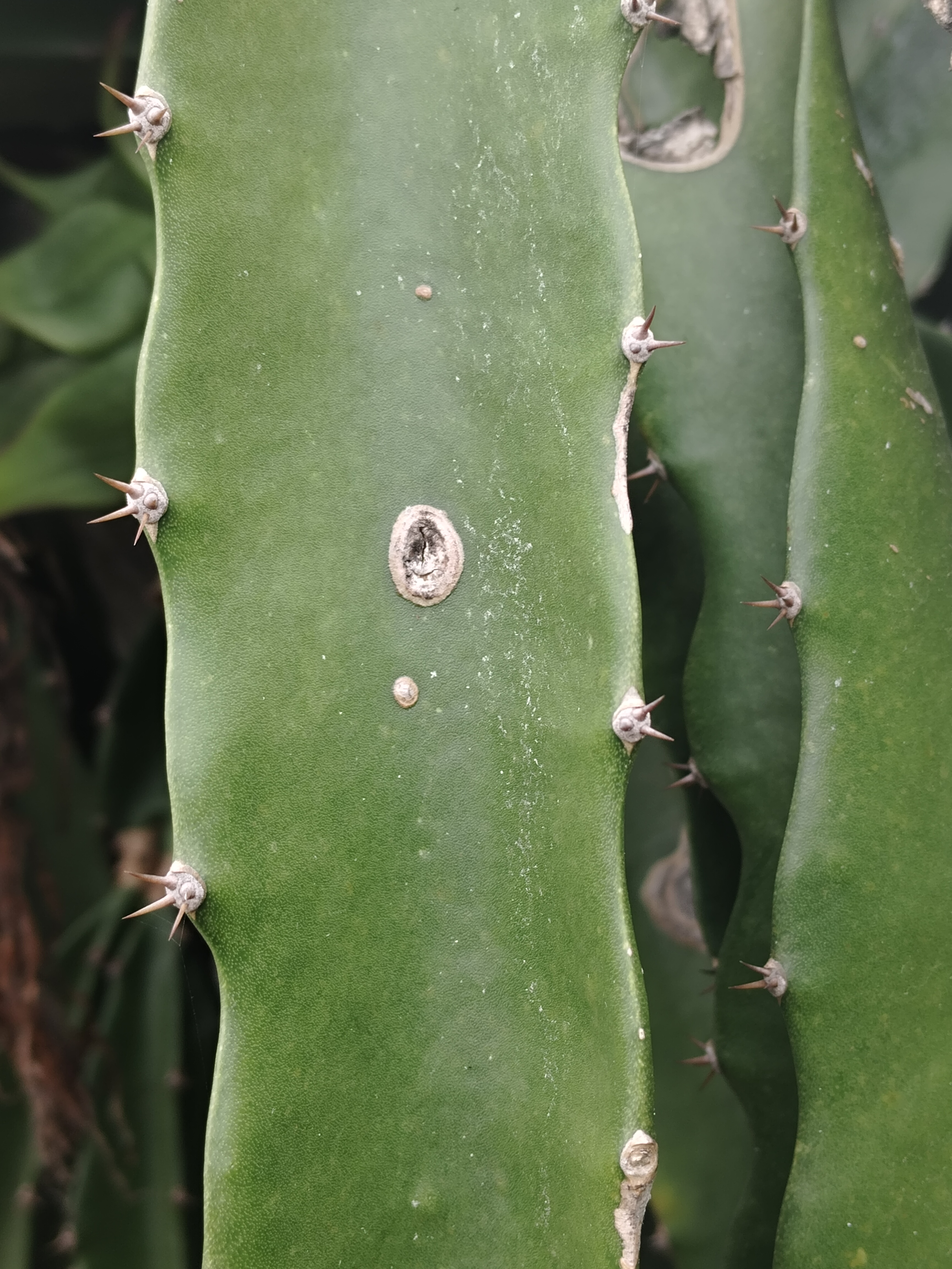stemcanker: (618, 1, 744, 178), (636, 823, 723, 958), (385, 495, 472, 615), (608, 1126, 660, 1269), (387, 672, 423, 714)
